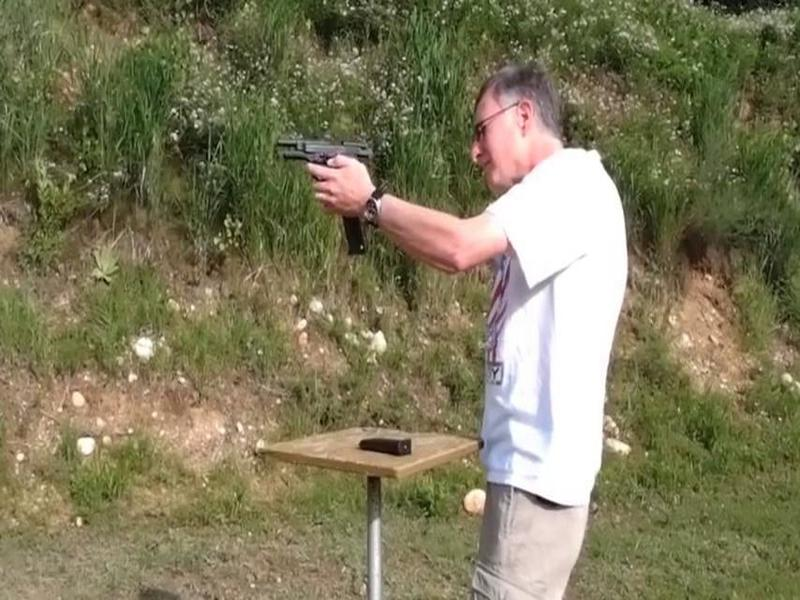Pistola: (267, 115, 398, 211)
